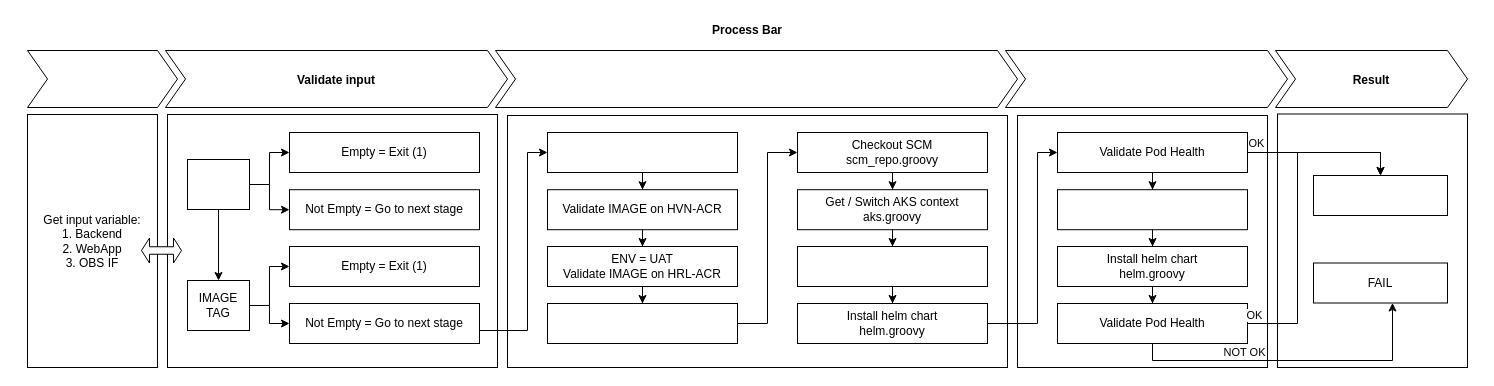
This 1494x386 diagram has some shape labels left out. The centre of each missing label's shape, as x and y in pixels:
"Application Installation" goes at point (756, 79).
"Application Installation backend / obsif / webapp.groovy" goes at point (642, 323).
"ENV" goes at point (218, 184).
"Install application app.groovy" goes at point (892, 266).
"Login Azure / ACR azure/acr.grrovy" goes at point (642, 152).
"Pipelines" goes at point (102, 79).
"SUCCESS" goes at point (1380, 195).
"Uninstall old deployment" goes at point (1152, 209).
"Validate Installation" goes at point (1146, 79).
